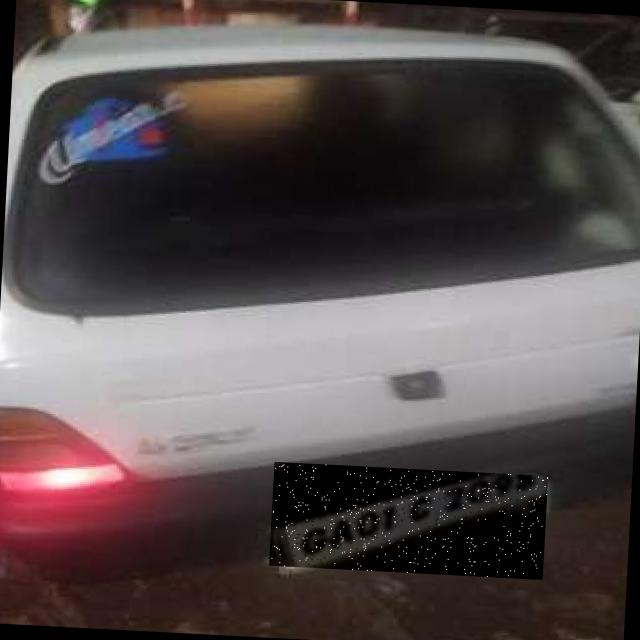Plate: (270, 463, 549, 581)
